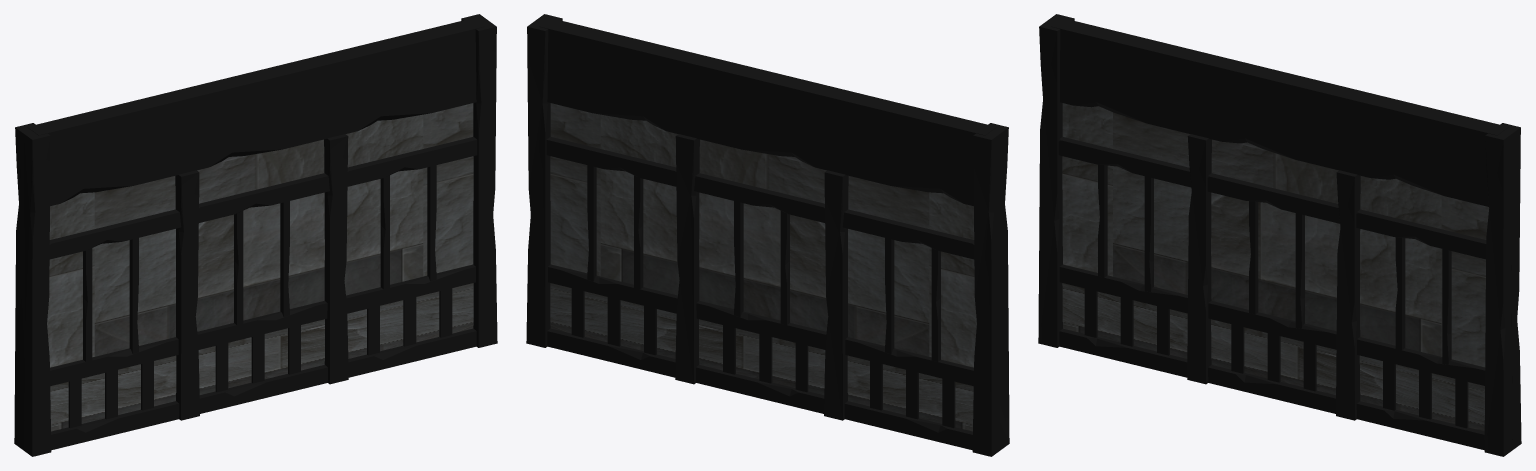
Rendered from wall.obj.
3 views of the same model, side by side, from view 1: azimuth 30°, elevation 25°; view 2: azimuth 150°, elevation 25°; view 3: azimuth 330°, elevation 25° (orthographic).
Parts seen in each view (by area): view 1: wall; view 2: wall; view 3: wall.
Boxes of the visible parts, x1,y1,x2,y2 form: wall: (14, 14, 497, 456); wall: (526, 14, 1009, 456); wall: (1038, 14, 1521, 456).
Size of the model in its own units: 5 by 3.26 by 0.3346.
2 materials, 1 textured.
